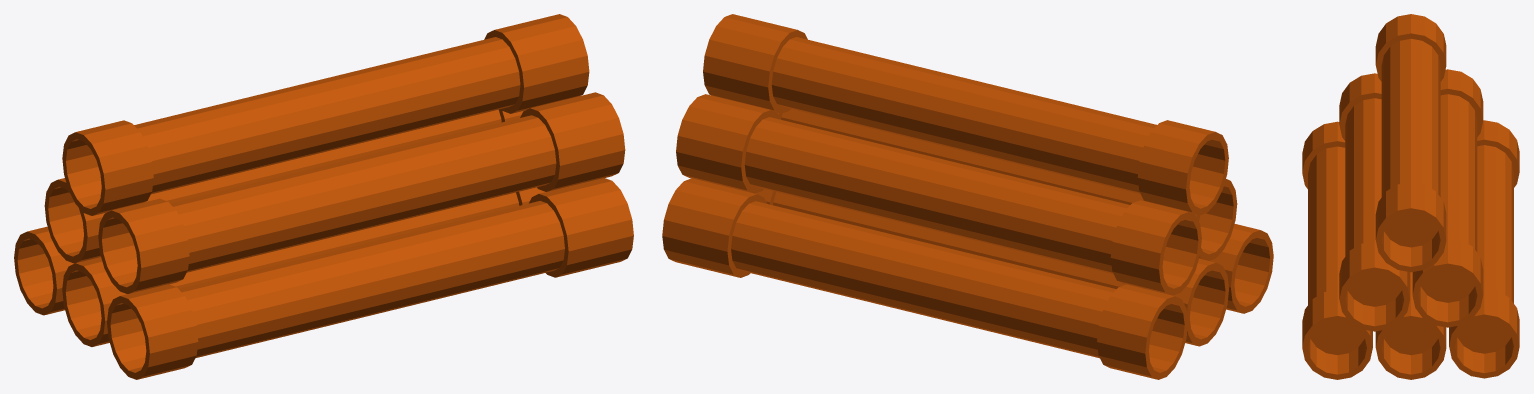
Rendered from Pipes.obj.
3 views of the same model, side by side, from view 1: azimuth 30°, elevation 25°; view 2: azimuth 150°, elevation 25°; view 3: azimuth 270°, elevation 25° (orthographic). The views are drawn at different scales.
Parts seen in each view (by area): view 1: Cylinder.005; view 2: Cylinder.005; view 3: Cylinder.005.
Part boxes in pixels (x1,y1,x2,y2): Cylinder.005: (14, 14, 633, 379); Cylinder.005: (662, 14, 1273, 379); Cylinder.005: (1302, 14, 1519, 379).
Bounding box in the file's own units: 8.08 × 3.22 × 3.69.
